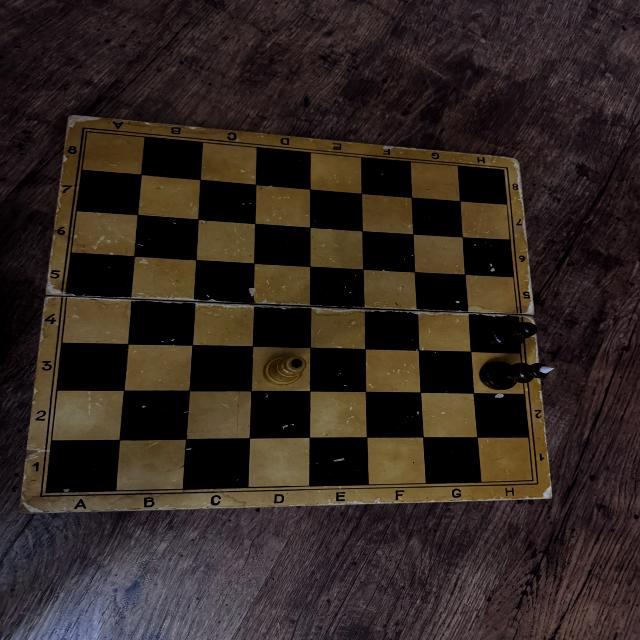black-king: (478, 360, 557, 390)
black-pawn: (485, 317, 539, 352)
white-king: (262, 352, 307, 389)
